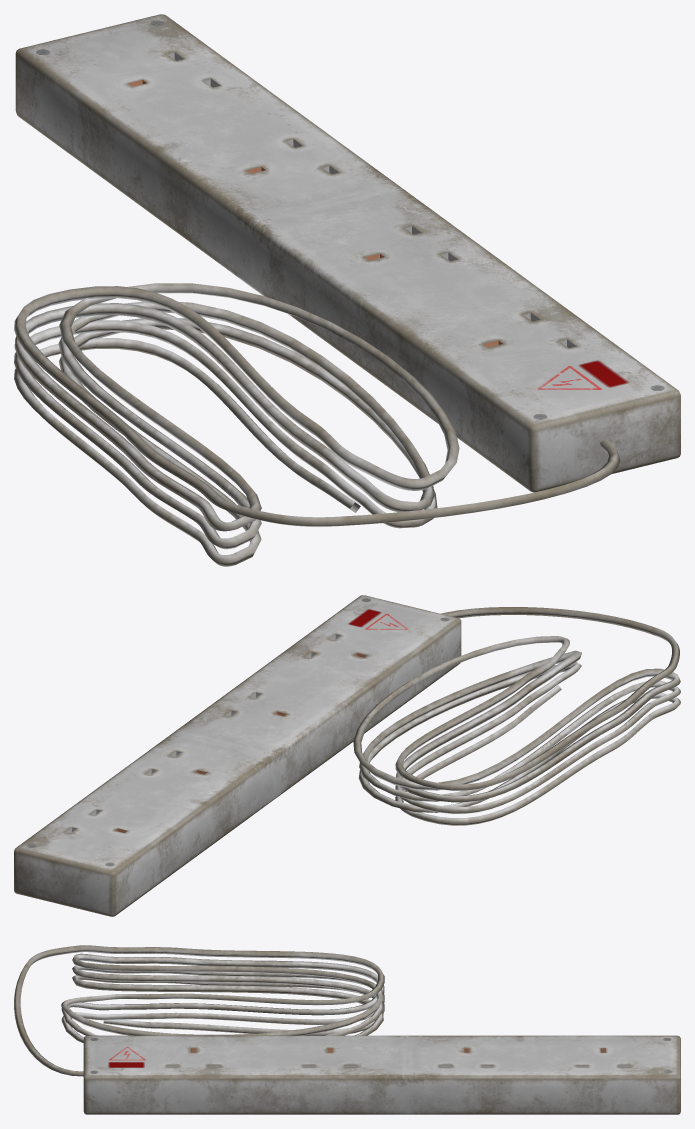
The model's file is power_strip_extension_lead.glb.
3 renders of one model, top to bottom at view 1: azimuth 30°, elevation 25°; view 2: azimuth 150°, elevation 25°; view 3: azimuth 270°, elevation 25°, orthographic. The views are drawn at different scales.
Visible parts, largest first — view 1: SM_plug_extension.001_1, SM_plug_extension_cable.001_0; view 2: SM_plug_extension.001_1, SM_plug_extension_cable.001_0; view 3: SM_plug_extension.001_1, SM_plug_extension_cable.001_0.
Part boxes in pixels (bbox=[...]): SM_plug_extension.001_1: bbox=[15, 14, 680, 492]; SM_plug_extension_cable.001_0: bbox=[14, 283, 620, 566]; SM_plug_extension.001_1: bbox=[14, 595, 461, 916]; SM_plug_extension_cable.001_0: bbox=[353, 607, 680, 825]; SM_plug_extension.001_1: bbox=[83, 1035, 680, 1114]; SM_plug_extension_cable.001_0: bbox=[14, 945, 384, 1076].
Bounding box in the file's own units: 0.3057 × 0.0482 × 0.6513.
Materials: 1 (1 with a texture image).
